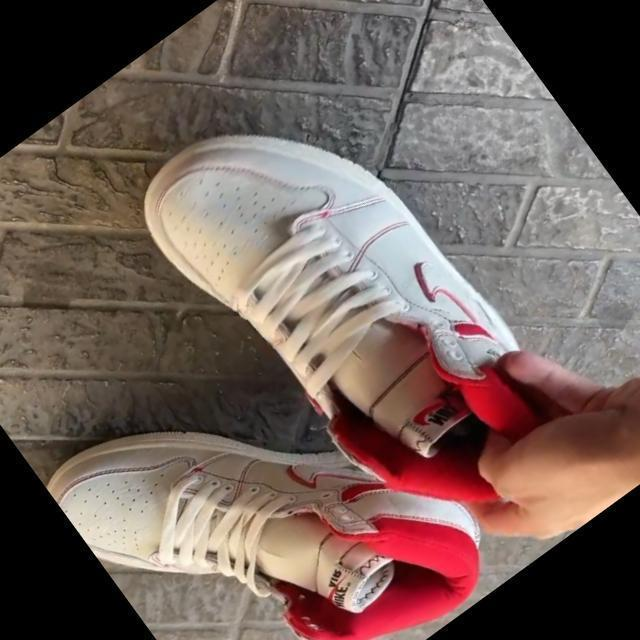nike fake jordan 1: (111, 56, 590, 582), (40, 282, 518, 640)
